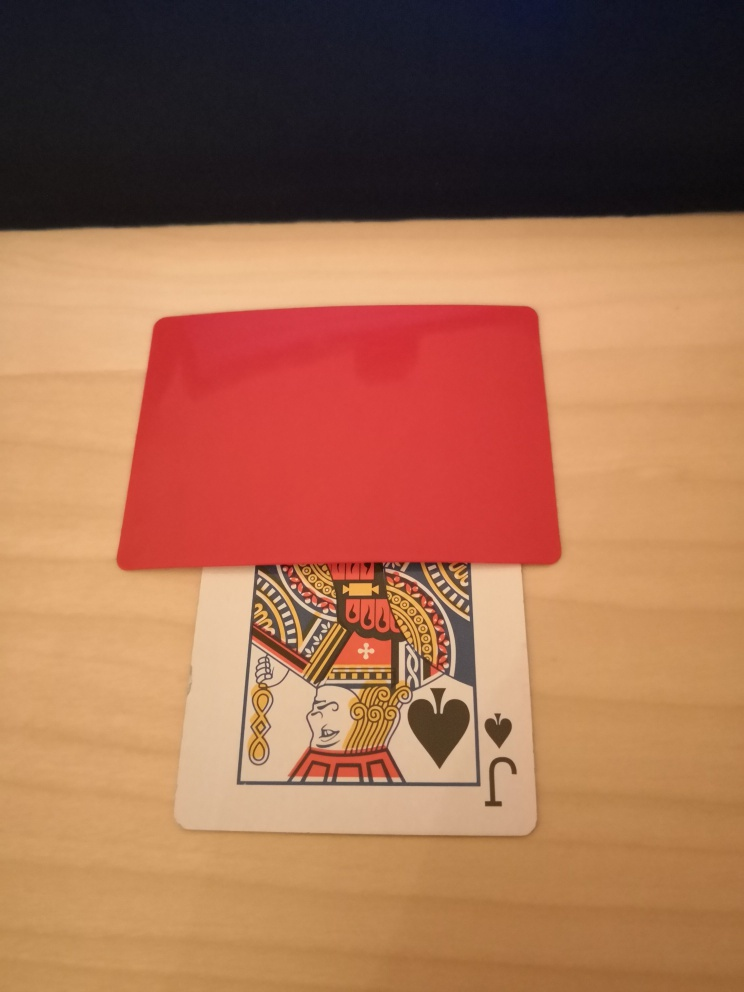jack: (176, 562, 540, 837)
